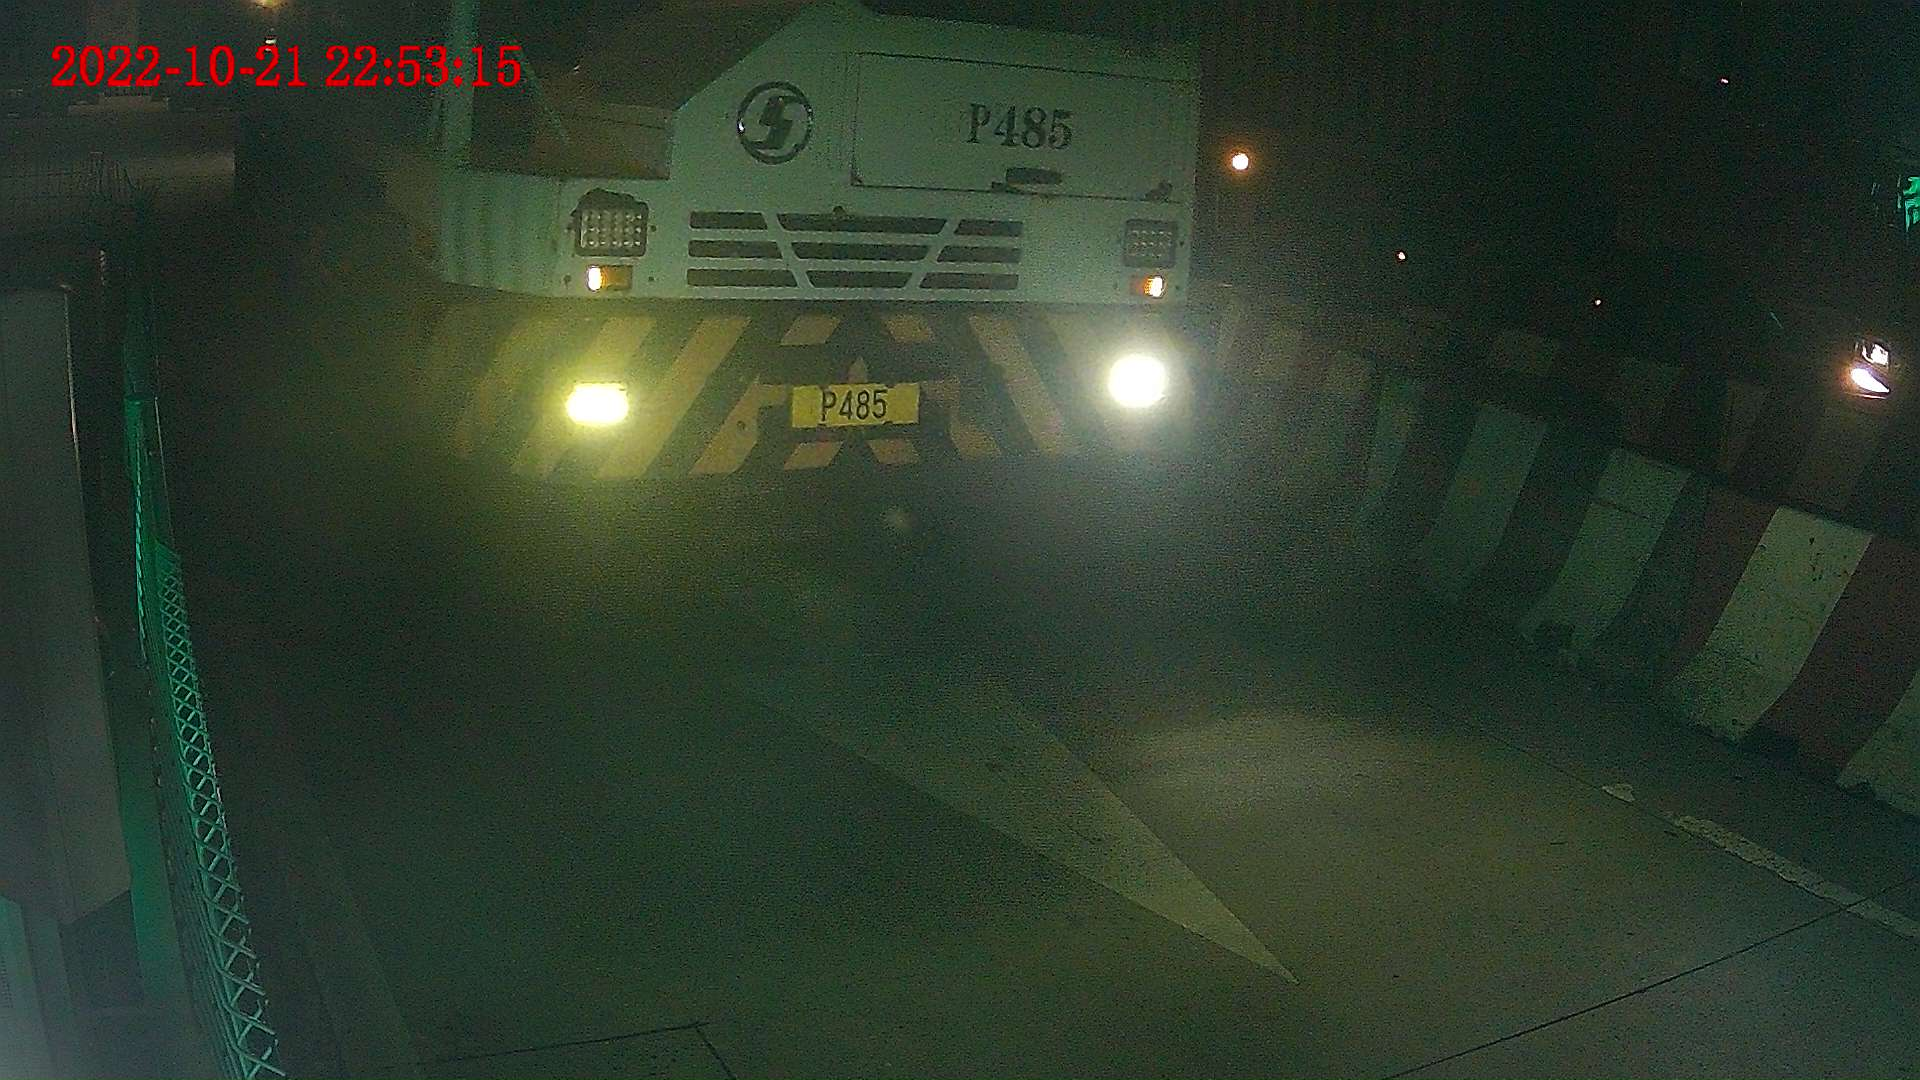head: (359, 1, 1204, 472)
plate: (791, 385, 920, 428)
